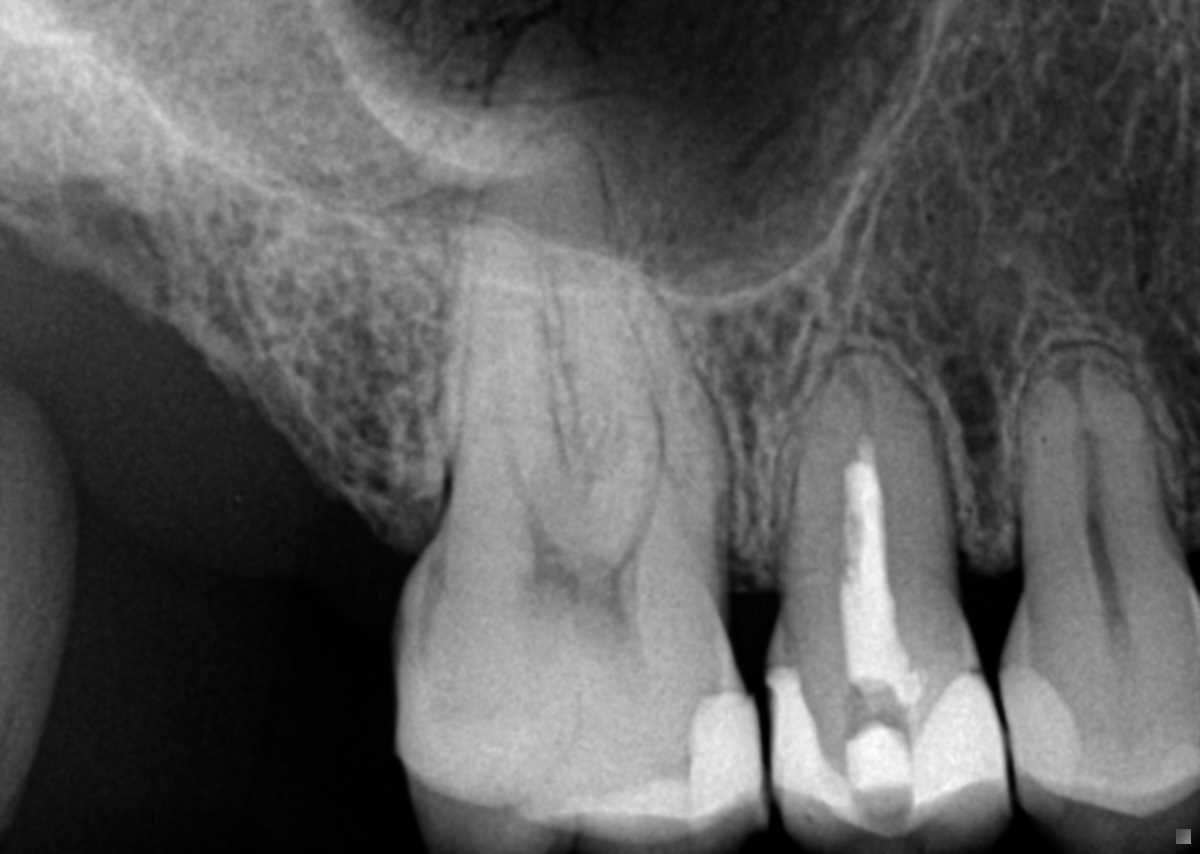Distal Canal: (492, 313, 537, 516)
Distal Root: (437, 217, 574, 524)
Main Canal: (1081, 405, 1114, 573)
Main Root: (1011, 334, 1188, 587), (780, 352, 958, 592)
Mesial Canal: (623, 338, 664, 541)
Mesial Root: (562, 249, 727, 563)
Palatal Root: (440, 127, 695, 579)
Root Canal Filling: (839, 434, 925, 702)
